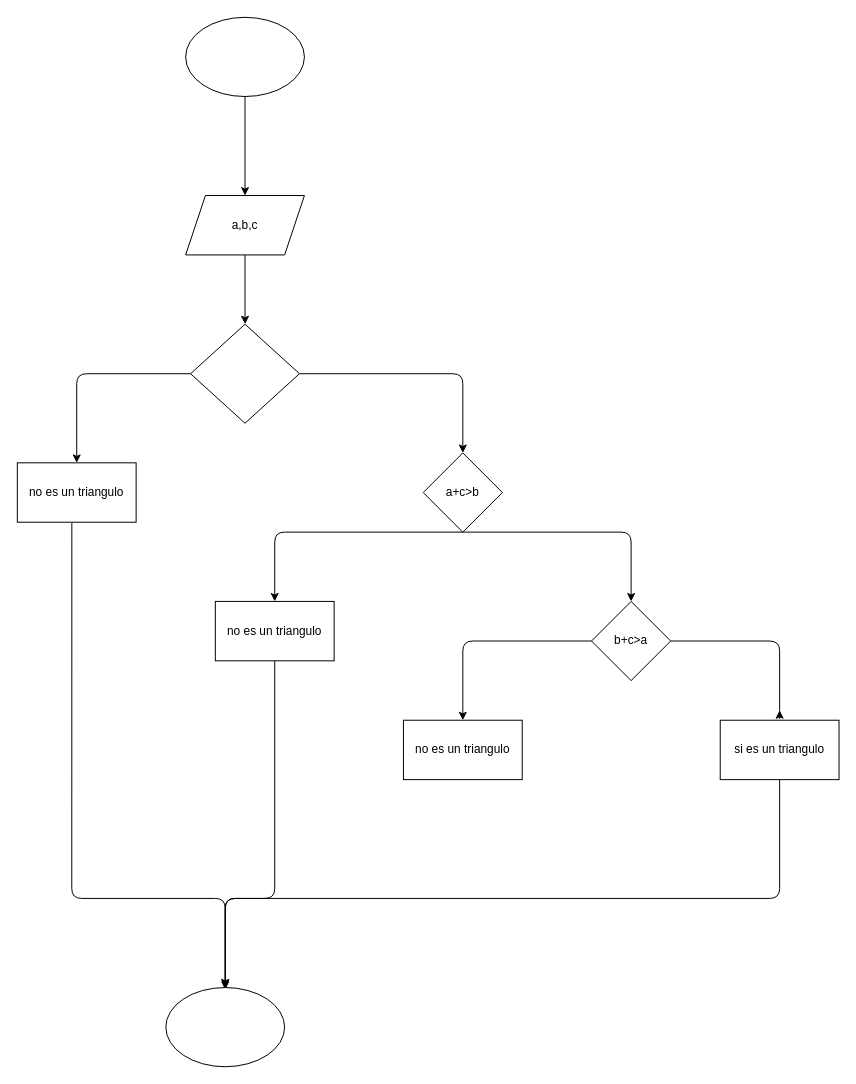
The diagram is 856 pixels wide and 1084 high, and some of its shapes have lost their labels. Here are the shapes that lost their labels. From the top down, the centre of each, then its label:
At (244,56): "INICIO".
At (244,373): "a+b>c".
At (225,1027): "FIN".
